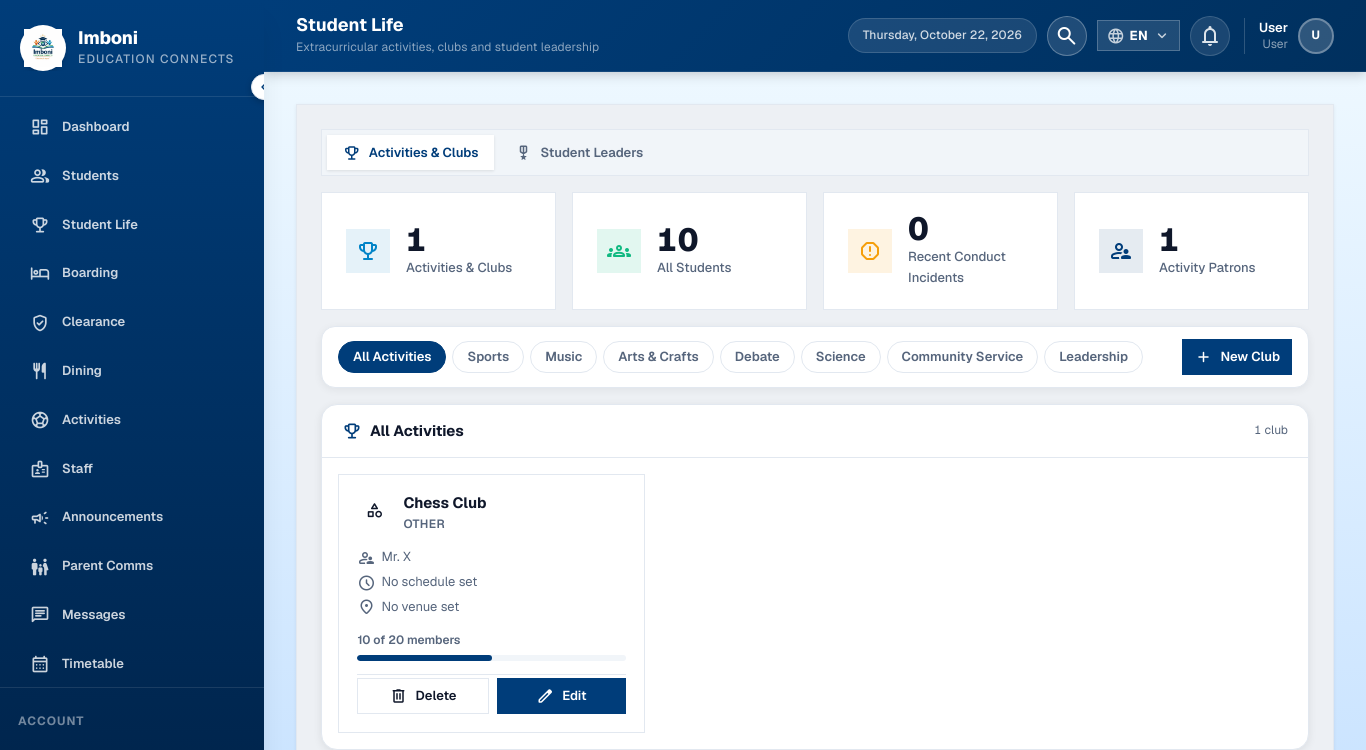
Test: DisStudentLife › filters activities by category
Check: the heading "Chess Club" is shown, box [403, 493, 486, 512]
Click the button "Sports": {"x": 488, "y": 357} [452, 341, 524, 373]
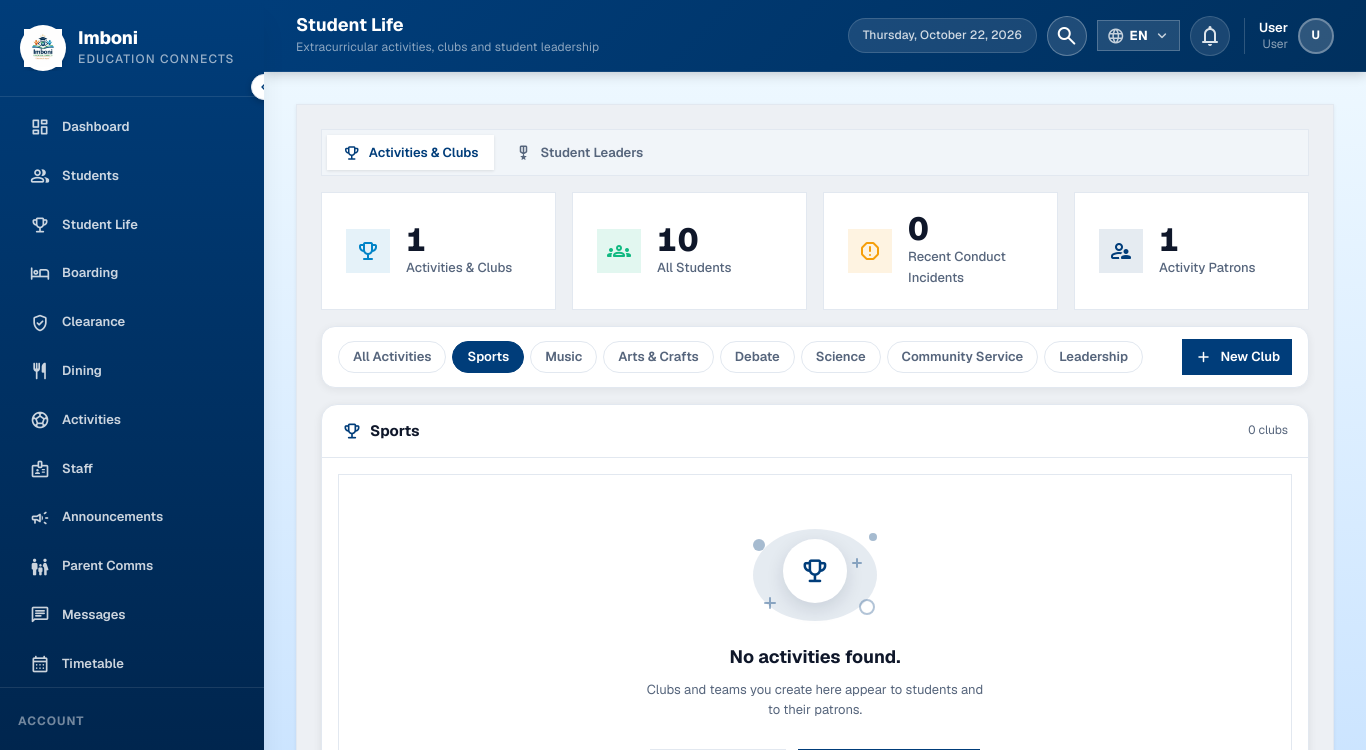
Check: the heading "Chess Club" is gone
